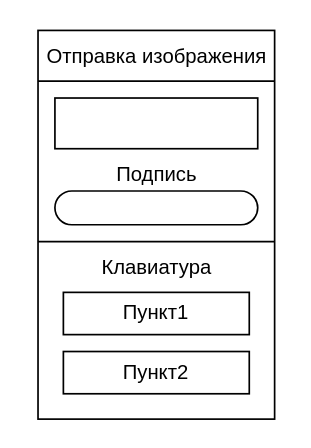
The diagram is 311 pixels wide and 448 high, and some of its shapes have lost their labels. Here are the shapes that lost their labels. From the top down, the centre of each, then its label:
At pixel 155 122: "Ссылка на изображение".
At pixel 155 207: "Выберите действие".
